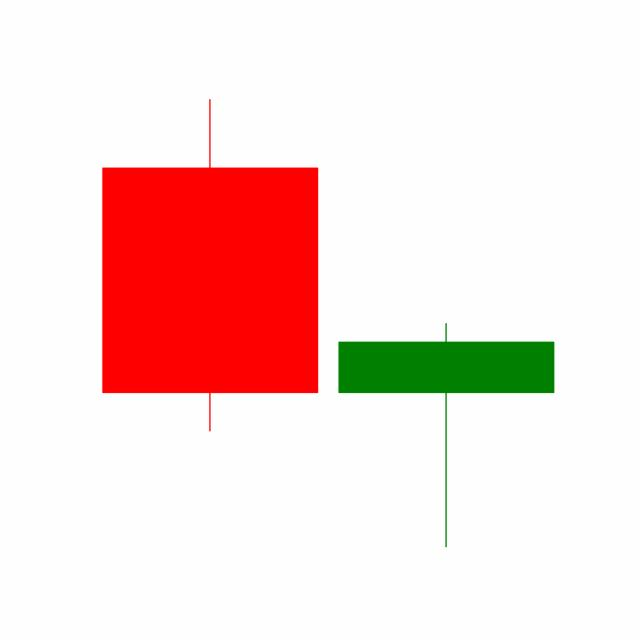Hammer: (327, 320, 565, 550)
